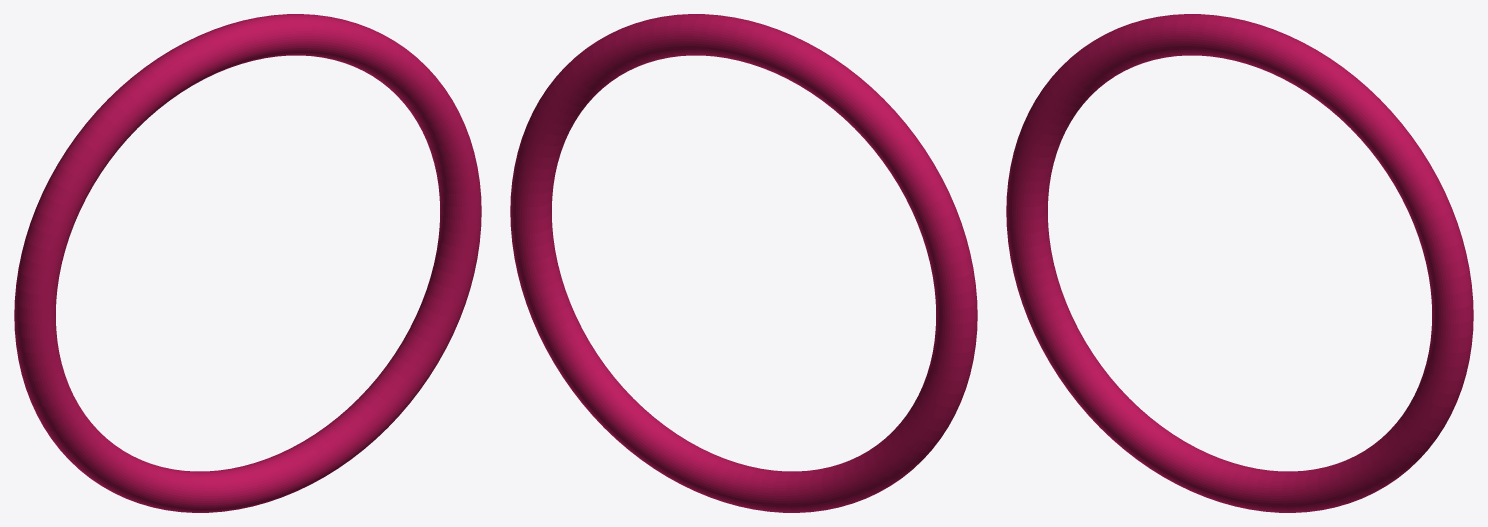
The picture shows the model from 3 angles, left to right: view 1: azimuth 30°, elevation 25°; view 2: azimuth 150°, elevation 25°; view 3: azimuth 330°, elevation 25°; orthographic projection.
Visible parts, largest first — view 1: world; view 2: world; view 3: world.
Boxes of the visible parts, x1,y1,x2,y2 form: world: (14, 14, 481, 512); world: (510, 14, 977, 512); world: (1006, 14, 1473, 512).
Size of the model in its own units: 32.53 by 32.53 by 2.53.
